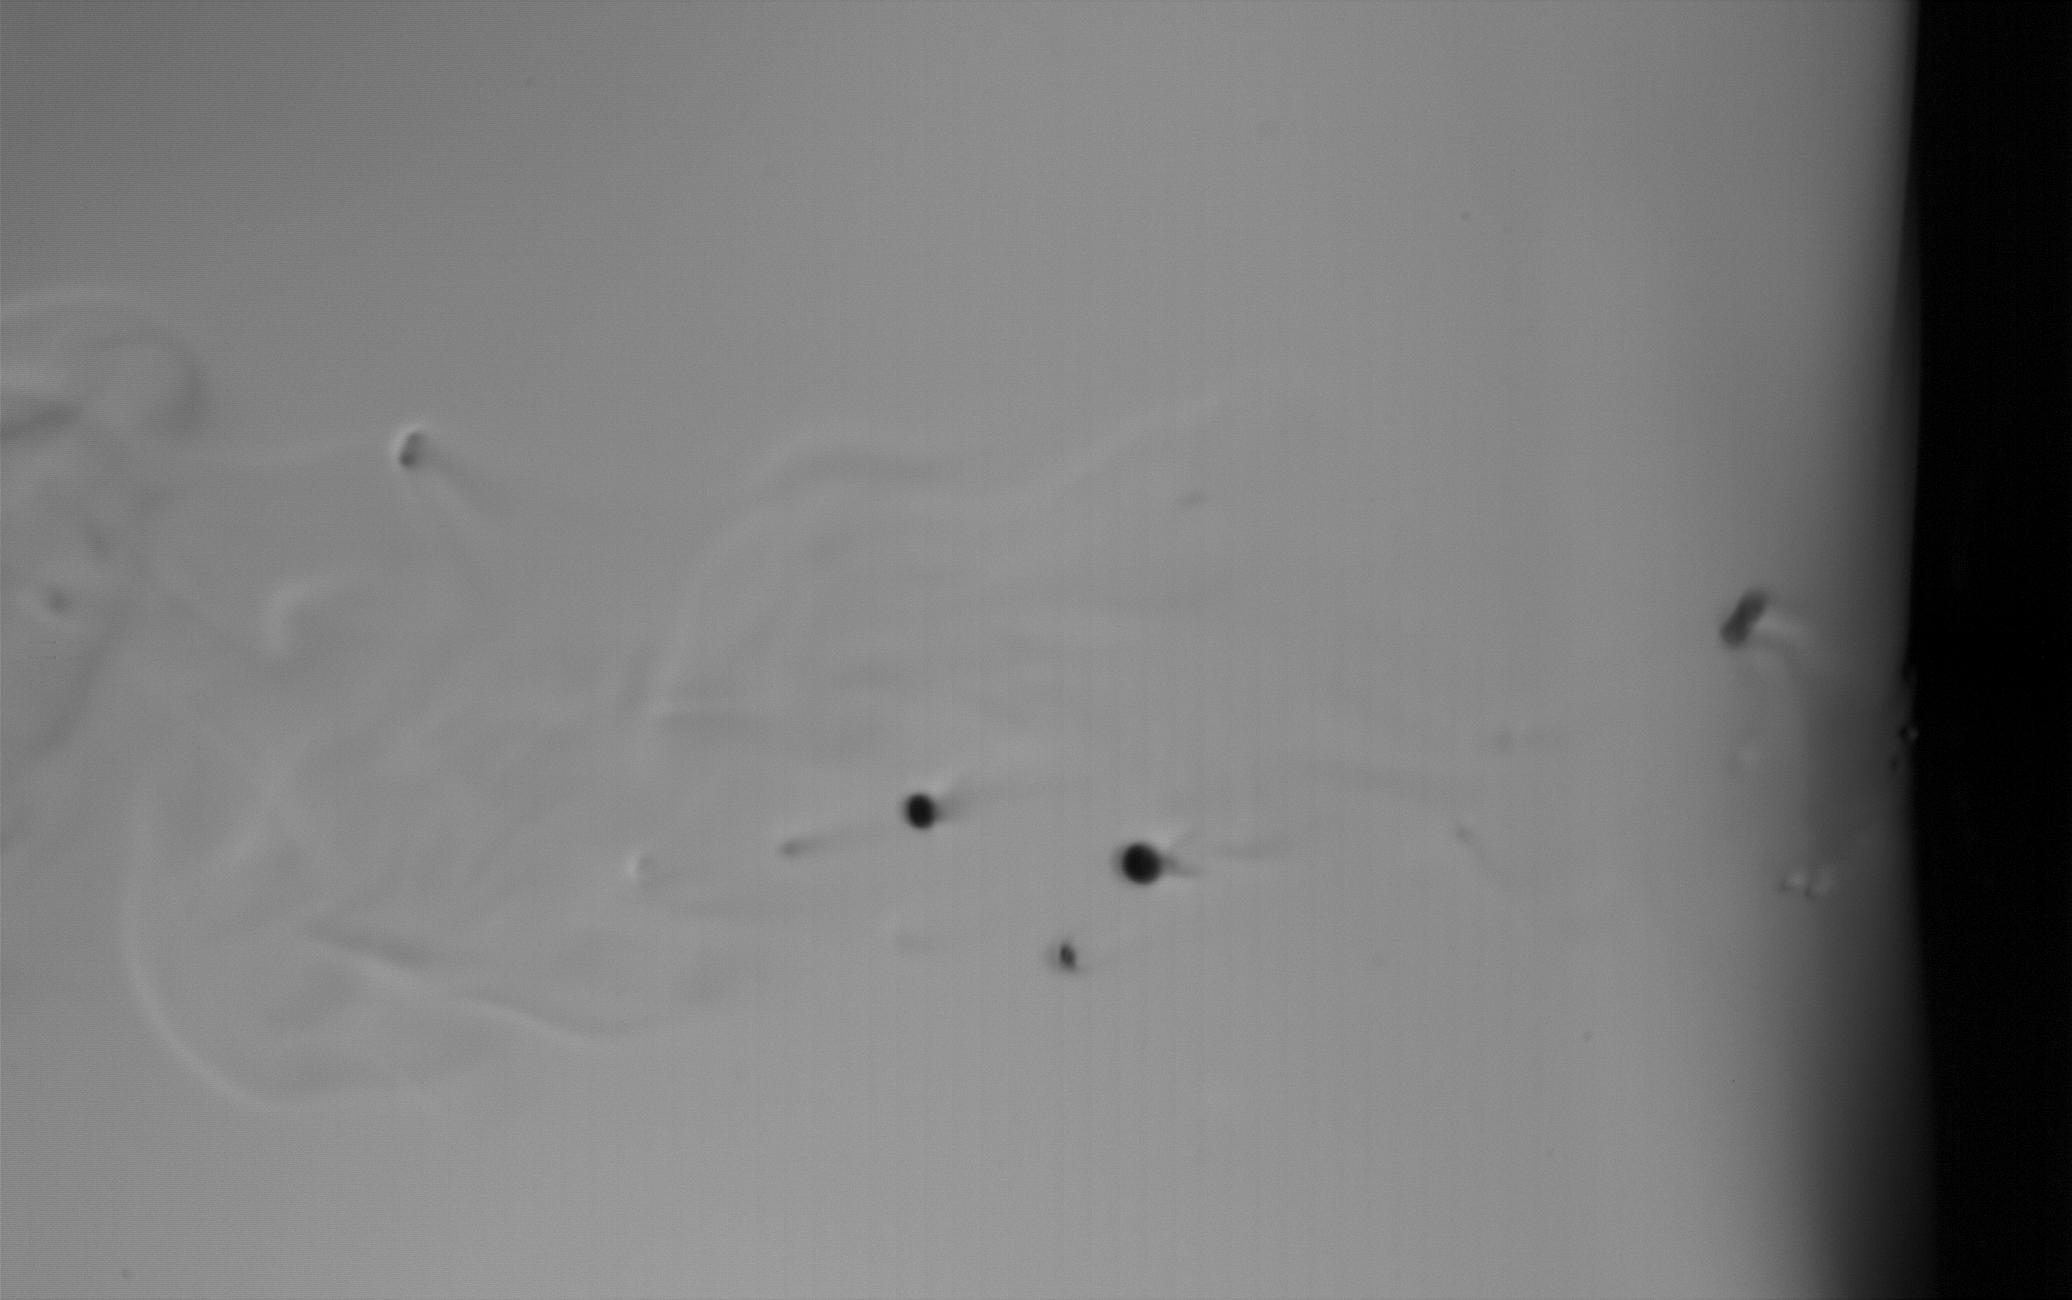Blurry: (1713, 578, 1774, 662), (386, 416, 425, 487)
ClassicalEvaporation: (1112, 840, 1163, 894), (895, 785, 945, 831)
TransitionalMixing: (1055, 939, 1082, 979)
